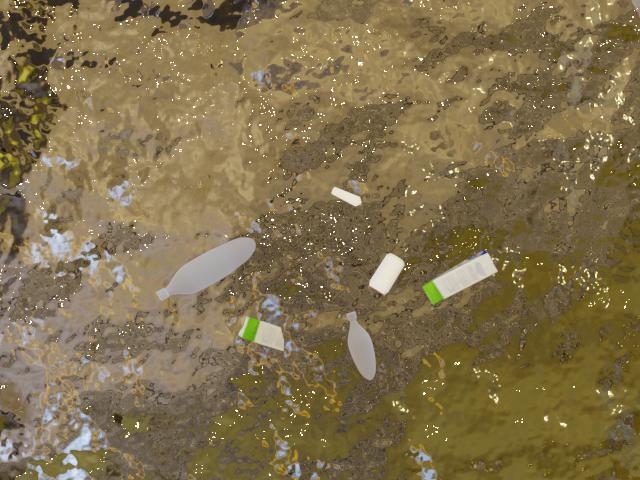Metal: (357, 248, 412, 298), (327, 175, 371, 212)
Plastic: (131, 225, 263, 304), (335, 309, 382, 381)
Trash: (416, 241, 498, 324), (234, 316, 290, 358)
